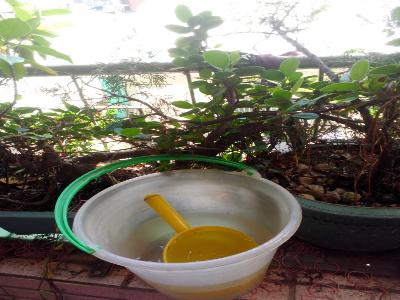bucket: (72, 167, 303, 300)
